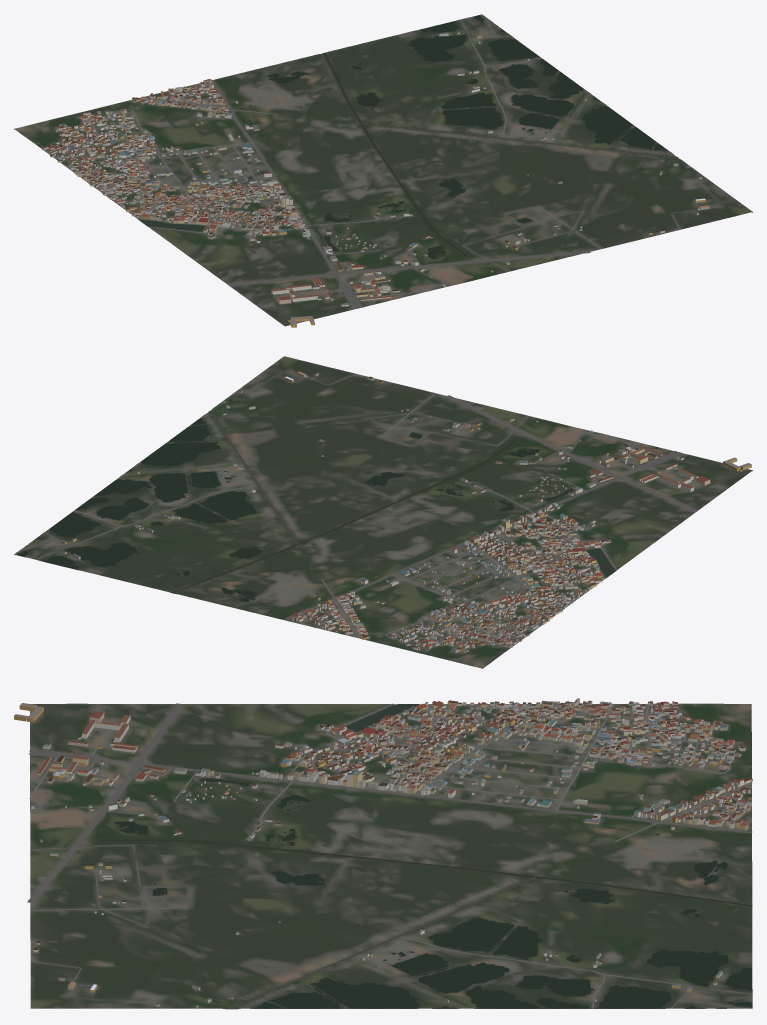
3 renders of one model, top to bottom at view 1: azimuth 30°, elevation 25°; view 2: azimuth 150°, elevation 25°; view 3: azimuth 270°, elevation 25°, orthographic. The views are drawn at different scales.
Parts seen in each view (by area): view 1: ground, buildings, water, roads; view 2: ground, buildings, water, roads; view 3: ground, buildings, water, roads.
Part boxes in pixels (x1,y1,x2,y2): ground: [14, 14, 752, 326]; buildings: [42, 31, 709, 327]; water: [139, 15, 678, 259]; roads: [46, 15, 696, 308]; ground: [14, 356, 752, 668]; buildings: [61, 371, 751, 653]; water: [17, 411, 614, 601]; roads: [16, 374, 698, 645]; ground: [30, 703, 752, 1009]; buildings: [14, 698, 752, 1007]; water: [101, 704, 752, 1009]; roads: [27, 703, 752, 1008].
Bounding box in the file's own units: 1409 × 31.58 × 1435.
